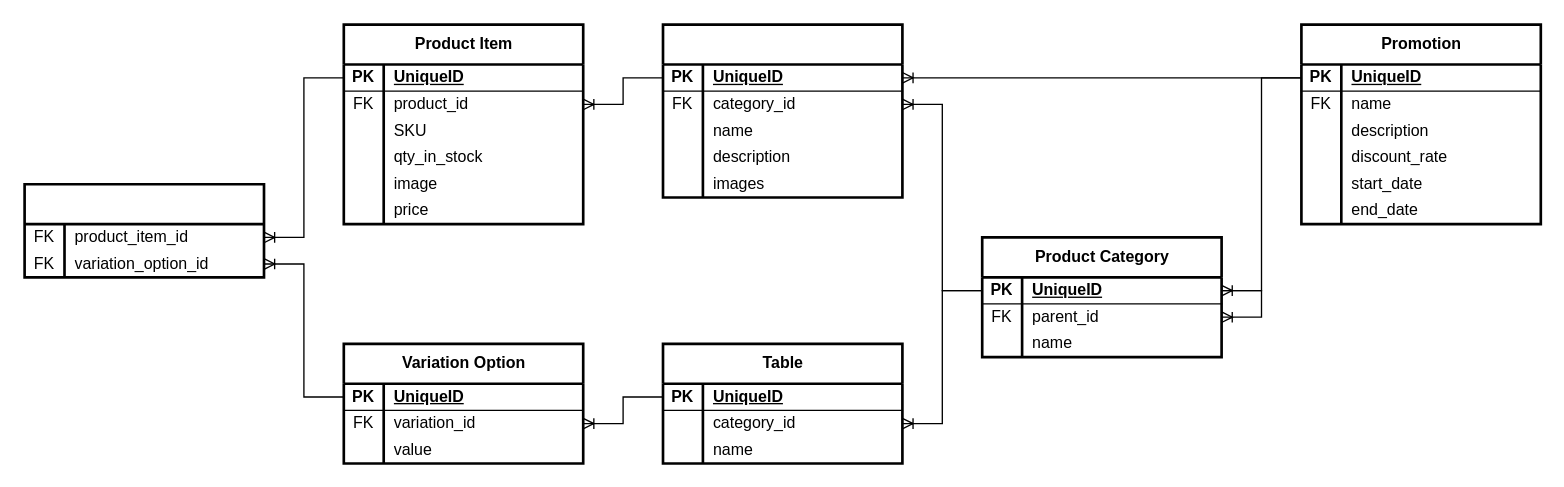
Image size: 1564x487. Some labels were removed from this diagram. Each missing label, with the box of its shape:
Product: (661, 23, 903, 198)
Product Configuration: (23, 182, 265, 278)
